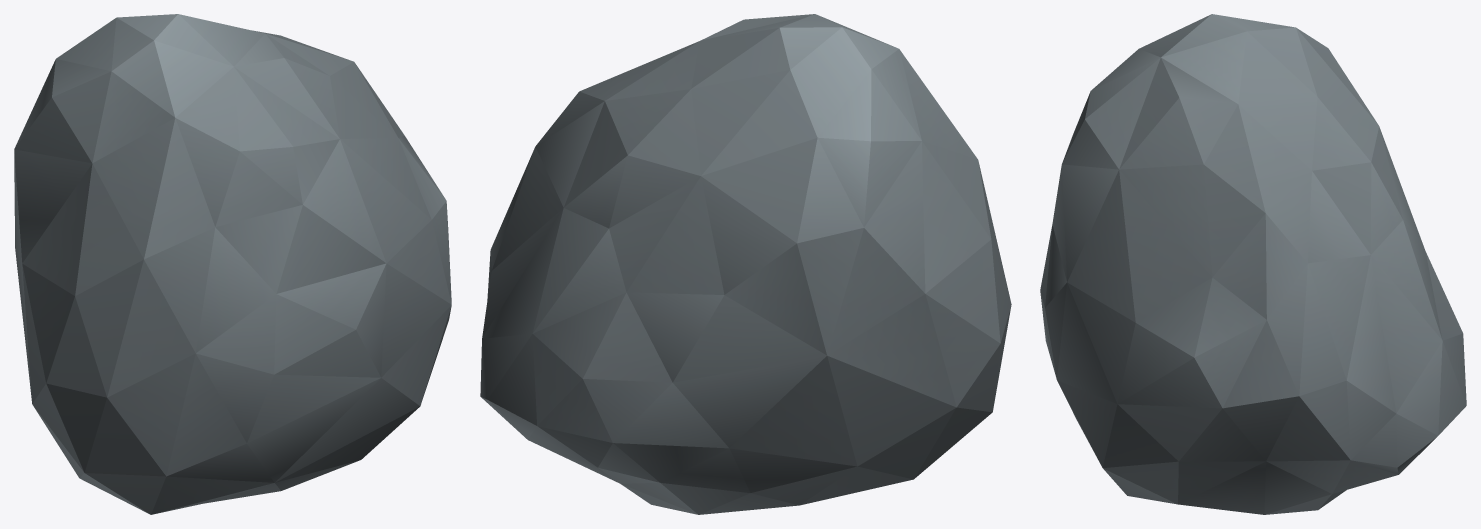
The model's file is kf_rock_3_h.fbx.
3 views of the same model, side by side, from view 1: azimuth 30°, elevation 25°; view 2: azimuth 150°, elevation 25°; view 3: azimuth 270°, elevation 25° (orthographic). The views are drawn at different scales.
Parts seen in each view (by area): view 1: kf_rock_3_h; view 2: kf_rock_3_h; view 3: kf_rock_3_h.
Boxes of the visible parts, bbox=[...] form: kf_rock_3_h: bbox=[14, 14, 451, 514]; kf_rock_3_h: bbox=[480, 14, 1011, 514]; kf_rock_3_h: bbox=[1040, 14, 1466, 514].
Bounding box in the file's own units: 4.69 × 4.94 × 4.22.
1 material, 1 textured.
